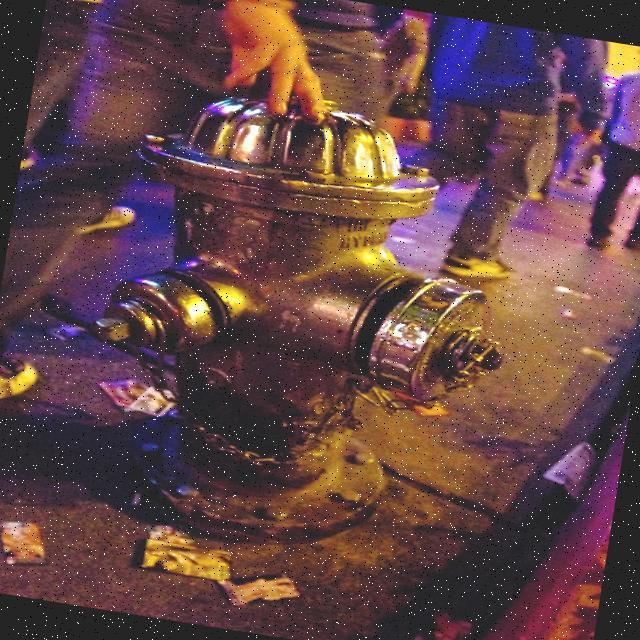fire_hydrant: (63, 68, 543, 578)
